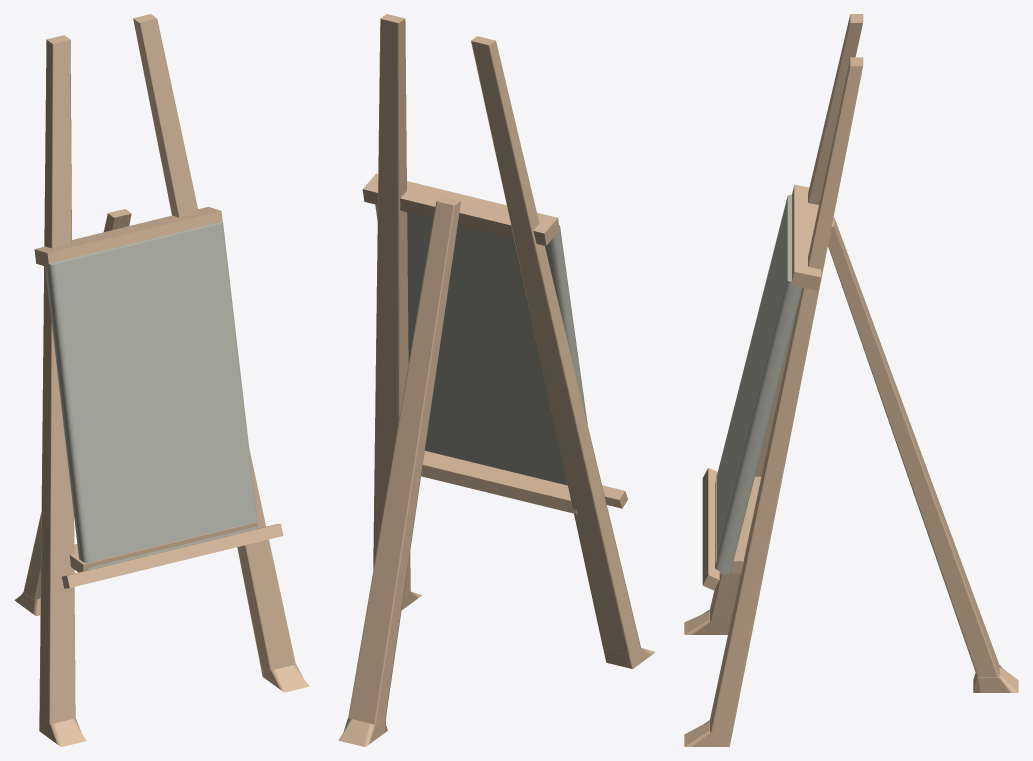
File: easel__4d7f020db965.glb
3 views of the same model, side by side, from view 1: azimuth 30°, elevation 25°; view 2: azimuth 150°, elevation 25°; view 3: azimuth 270°, elevation 25° (orthographic). The views are drawn at different scales.
Visible parts, largest first — view 1: panel, rail, rail.001, cap, lip, prop, shelf; view 2: panel, rail, prop, rail.001, shelf, cap; view 3: rail.001, panel, prop, rail, cap, lip, shelf.
Boxes of the visible parts, x1,y1,x2,y2 form: panel: (45, 221, 258, 570); rail: (39, 35, 86, 746); rail.001: (133, 14, 309, 692); cap: (34, 206, 222, 267); lip: (62, 523, 283, 588); prop: (14, 209, 131, 615); shelf: (69, 522, 257, 572); panel: (375, 204, 587, 485); rail: (471, 36, 654, 668); prop: (338, 196, 460, 746); rail.001: (373, 14, 421, 609); shelf: (421, 451, 577, 514); cap: (362, 173, 559, 245); rail.001: (684, 57, 863, 746); panel: (715, 194, 802, 574); prop: (828, 217, 1018, 692); rail: (684, 14, 863, 634); cap: (791, 184, 821, 290); lip: (702, 468, 719, 590); shelf: (715, 474, 761, 573).
Size of the model in its own units: 0.707 by 1.7 by 0.8.
